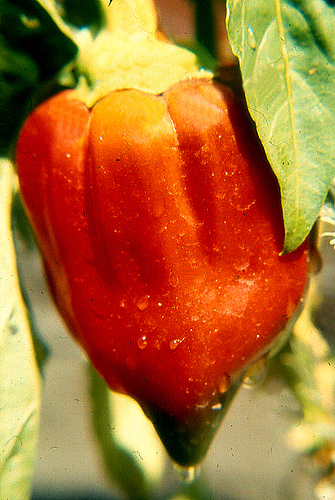capsicum: (16, 1, 312, 467)
